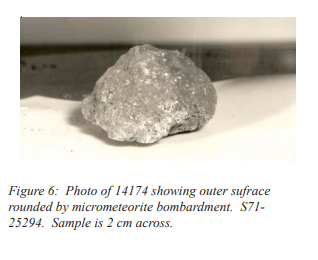Breccia: (69, 41, 240, 156)
